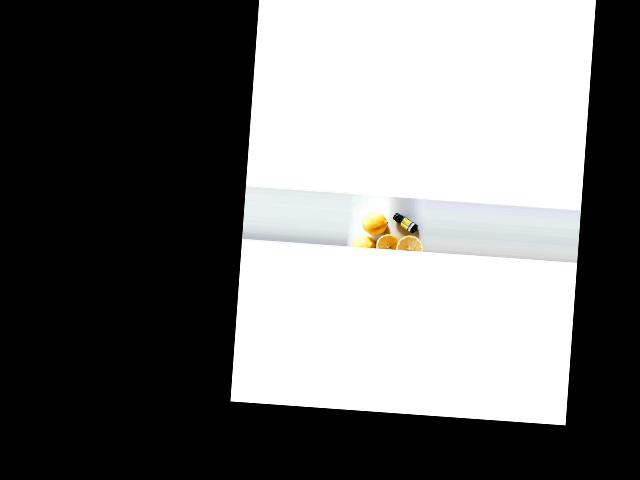lemon: (361, 214, 388, 233)
